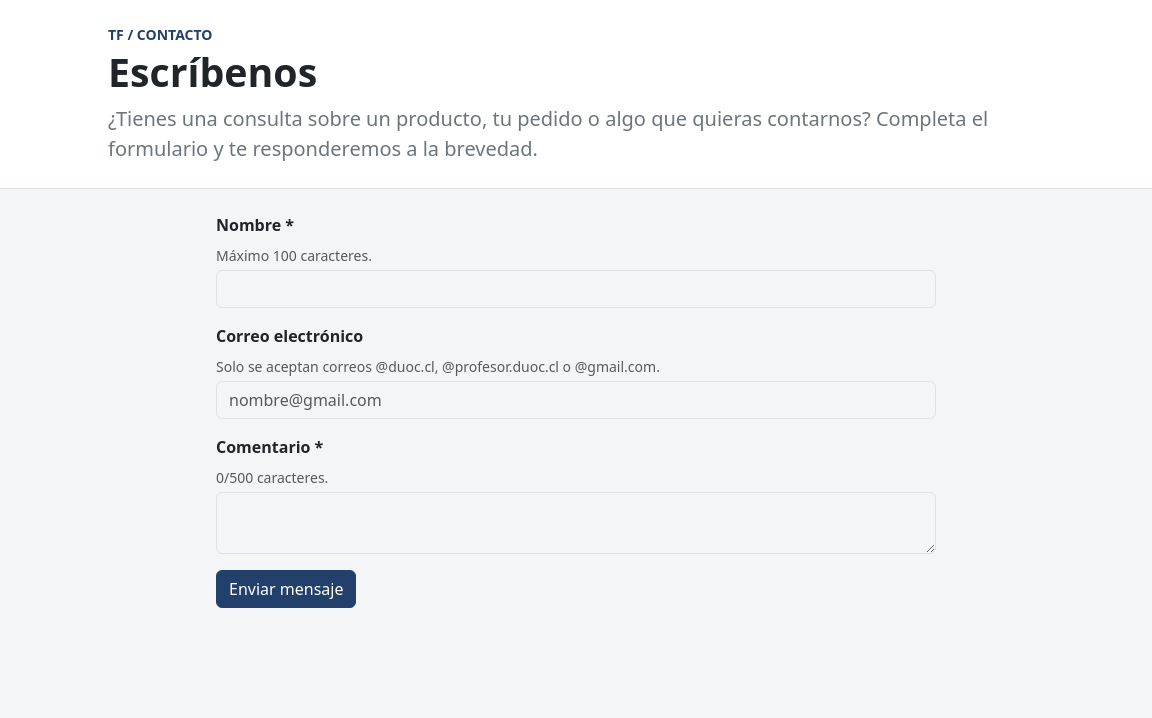
Test: Vista Contacto › valida los campos, cuenta caracteres y confirma el envío limpiando el formulario
The width and height of the screenshot is (1152, 718).
Expected: the heading "Escríbenos" is shown, left=108, top=45, right=317, bottom=99
Click the button "Enviar mensaje": (286, 589) left=216, top=570, right=356, bottom=608
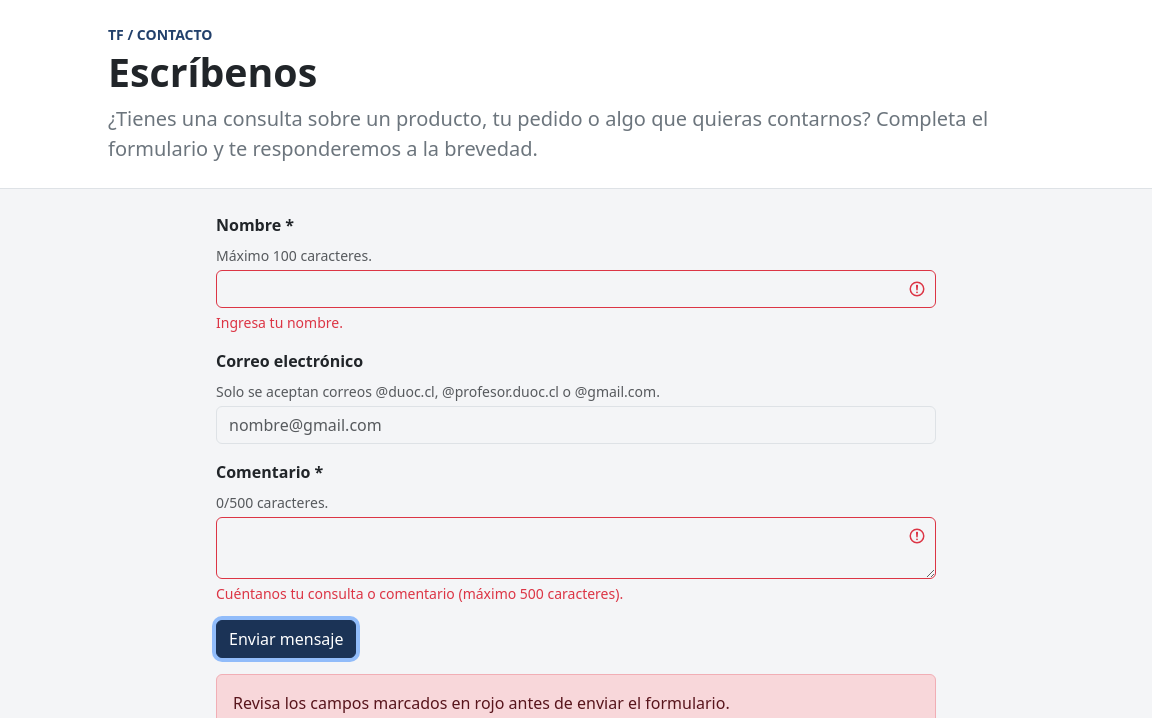
Expected: the message reads "Revisa los campos marcados en rojo antes de enviar el formulario.", left=233, top=692, right=730, bottom=714
In the field labelled "Correo electrónico": (576, 425) left=216, top=406, right=936, bottom=444, type "pedro@hotmail.com"
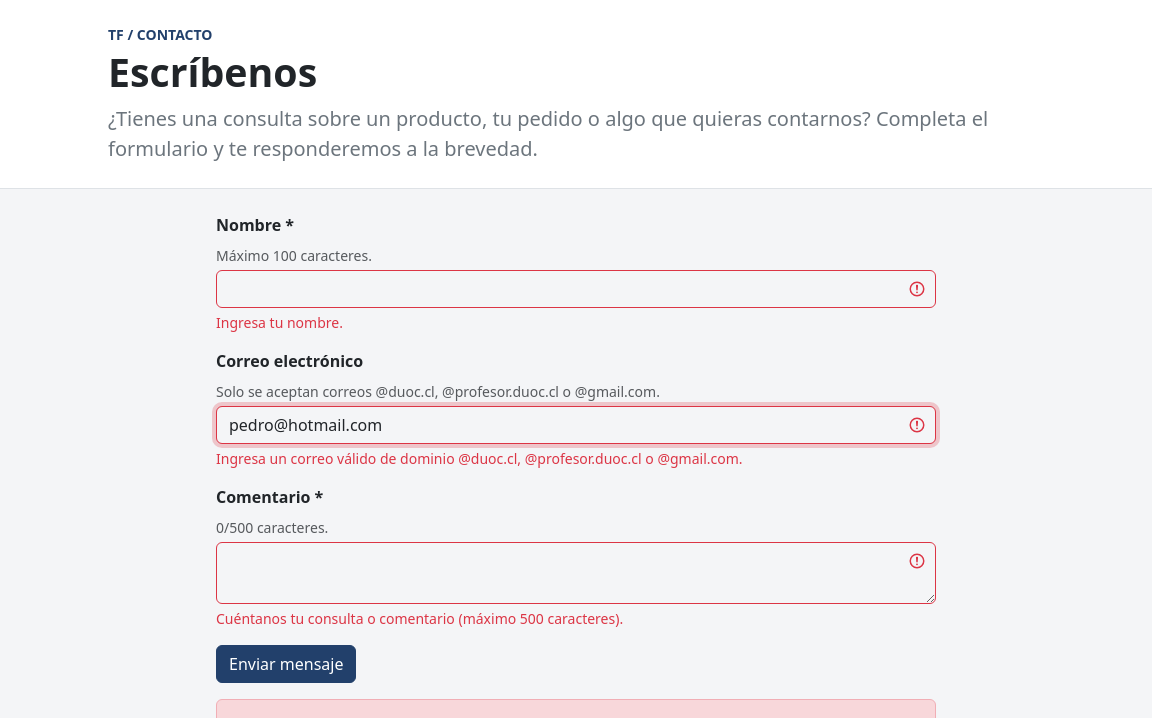
Expected: the field labelled "Correo electrónico" has class "is-invalid"
Replace the text in the field labelled "Correo electrónico" with "pedro@gmail.com": (576, 425) left=216, top=406, right=936, bottom=444
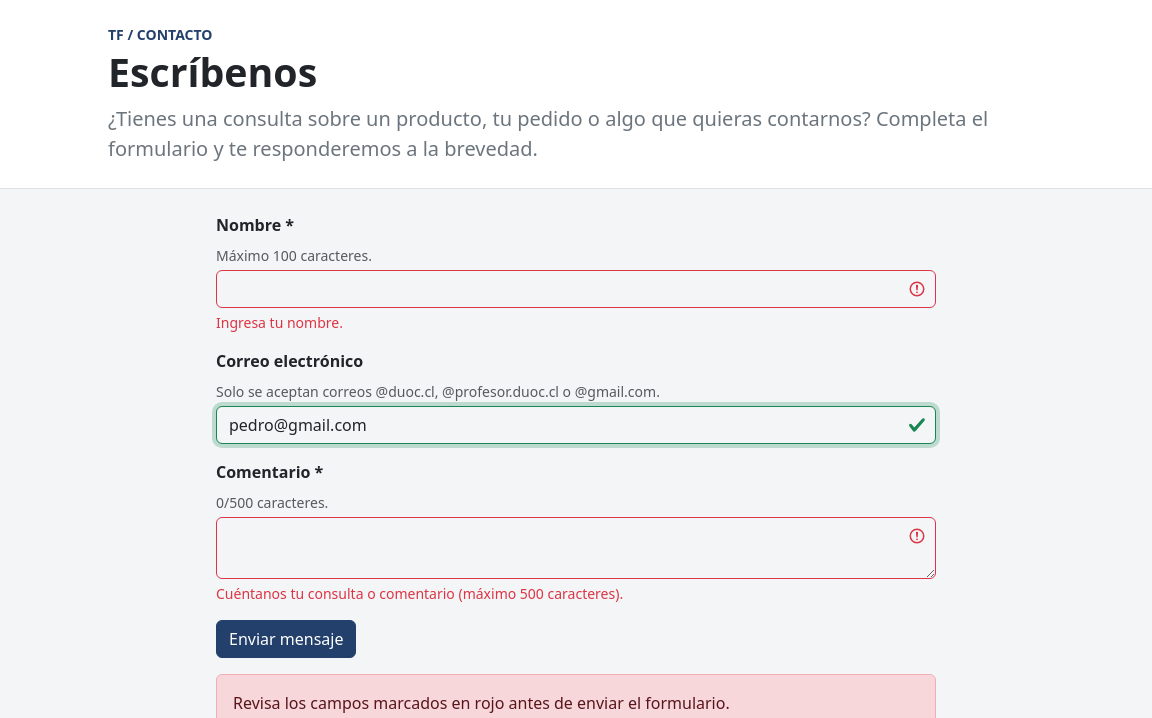
Expected: the field labelled "Correo electrónico" has class "is-valid", left=216, top=406, right=936, bottom=444
In the field labelled "Nombre *": (576, 289) left=216, top=270, right=936, bottom=308, type "Pedro"
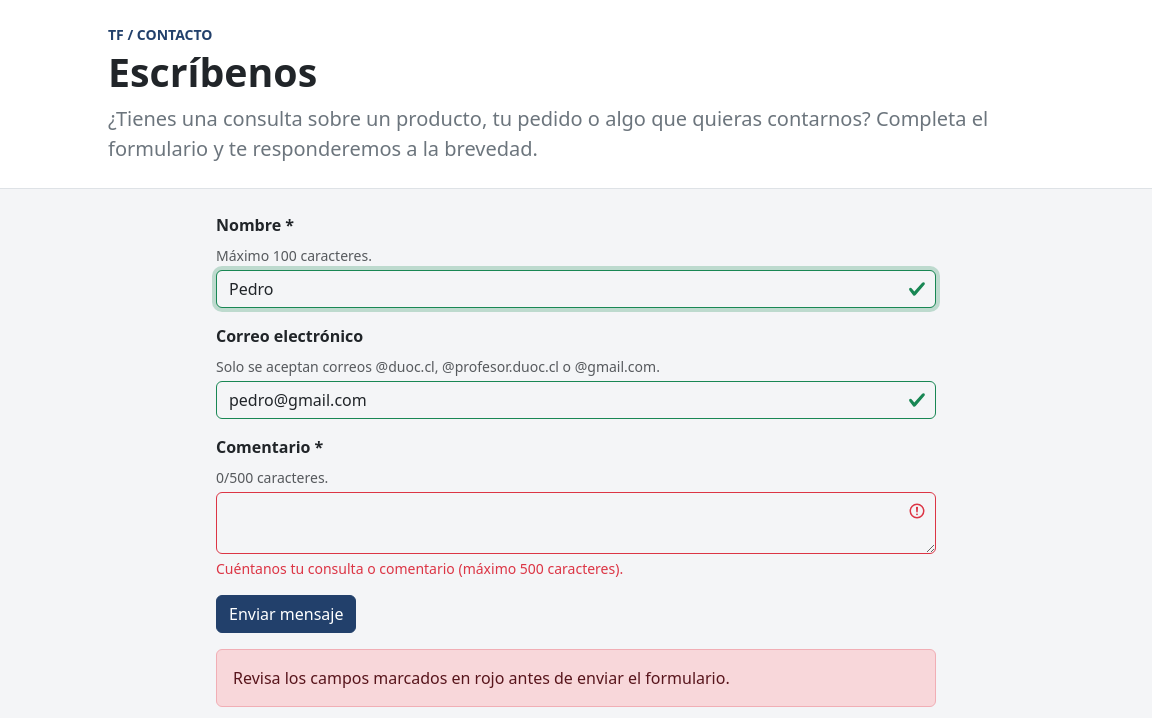
In the text box labelled "Comentario *": (576, 523) left=216, top=492, right=936, bottom=554, type "Hola"
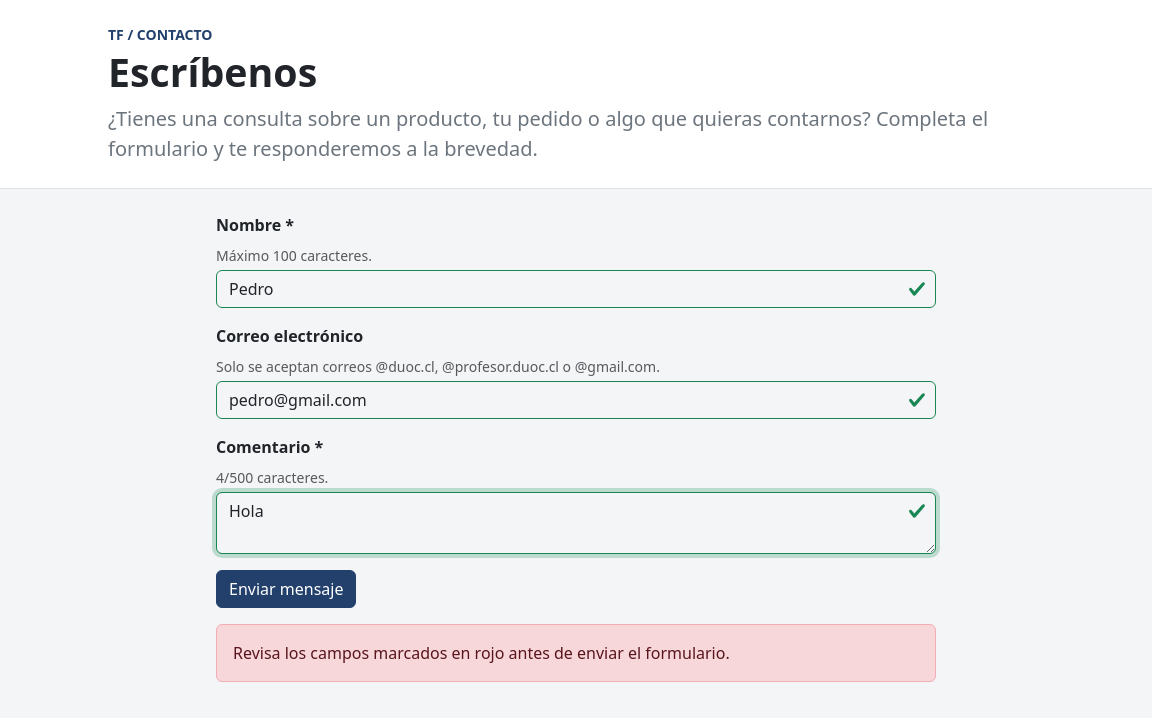
Expected: the text "4/500 caracteres." is shown, left=216, top=468, right=328, bottom=487
Click the button "Enviar mensaje": (286, 589) left=216, top=570, right=356, bottom=608
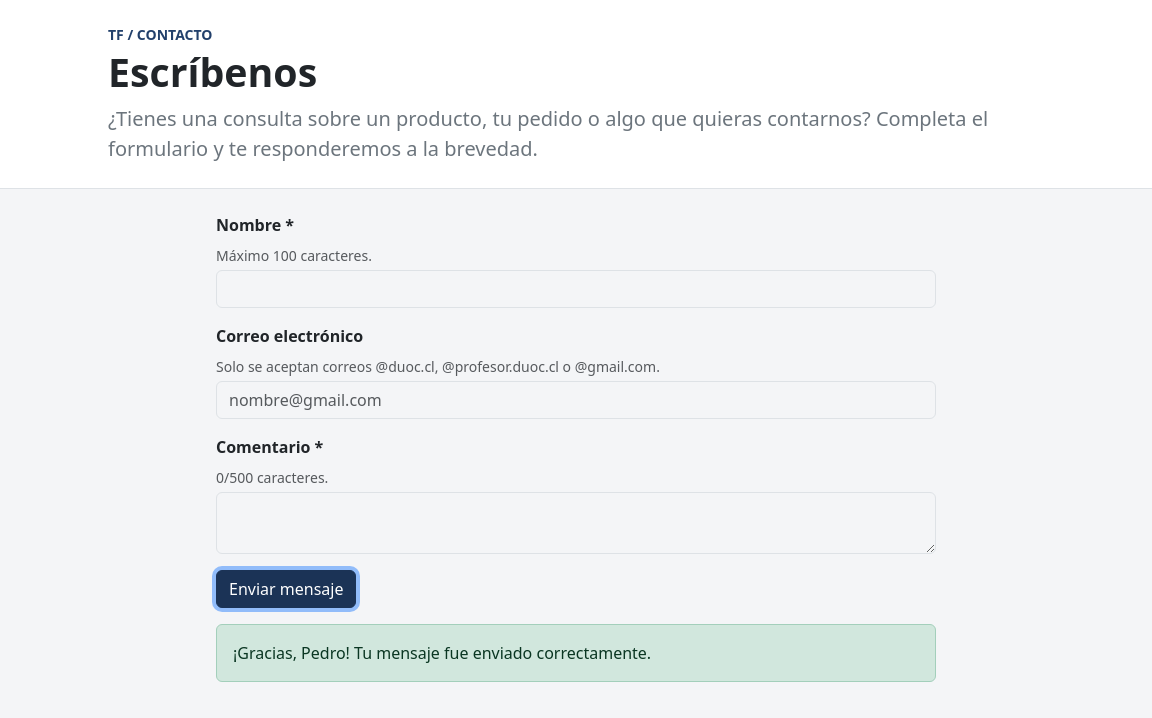
Expected: the field labelled "Nombre *" is empty, left=216, top=270, right=936, bottom=308
Expected: the text "¡Gracias, Pedro! Tu mensaje fue enviado correctamente." is shown, left=216, top=624, right=936, bottom=682
